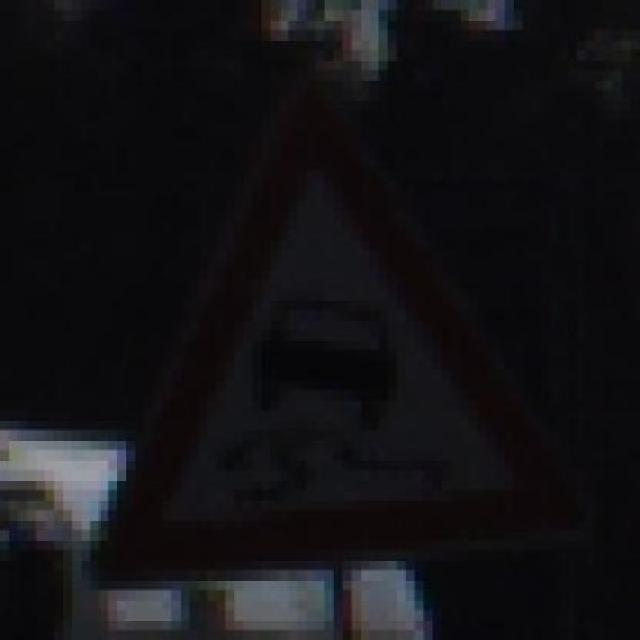Slippery Road Ahead: (90, 79, 578, 570)
